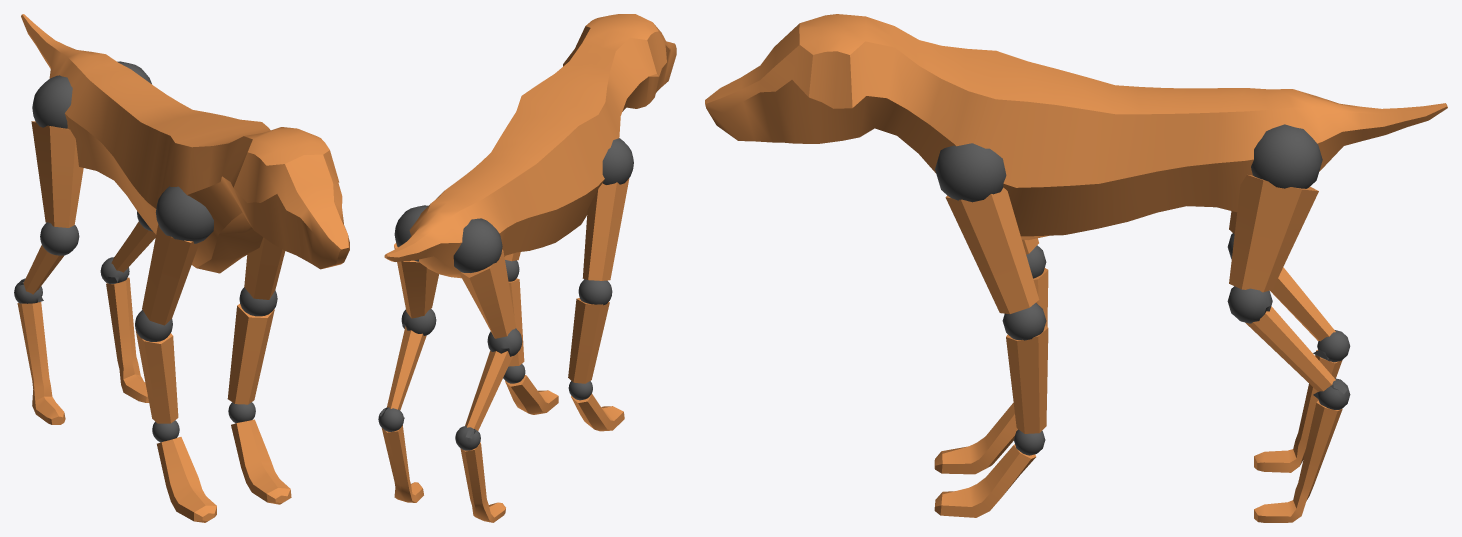
Rendered from OpenDog.glb.
3 views of the same model, side by side, from view 1: azimuth 30°, elevation 25°; view 2: azimuth 150°, elevation 25°; view 3: azimuth 270°, elevation 25° (orthographic). The views are drawn at different scales.
Visible parts, largest first — view 1: OpenDog; view 2: OpenDog; view 3: OpenDog.
Part boxes in pixels (x1,y1,x2,y2): OpenDog: (14,14,349,522); OpenDog: (378,14,676,522); OpenDog: (705,14,1447,522).
Bounding box in the file's own units: 0.354 × 1 × 1.44.
